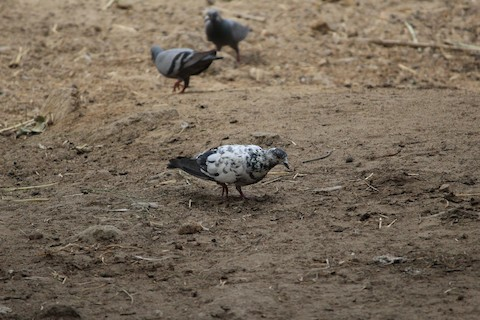pigeon: (162, 141, 296, 205), (143, 41, 222, 96), (198, 4, 254, 63)
